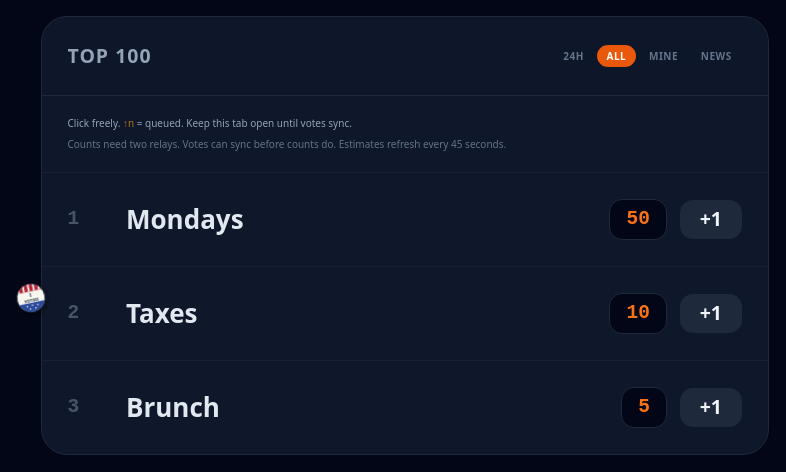
Test: Blameboard › re-ranks by 24h votes under the 24h tab and drops zero-hot topics
What coordinates should you click on to do the following:
click the button "24h"
I would click on:
 (574, 56)
Its box is [554,45,594,67].
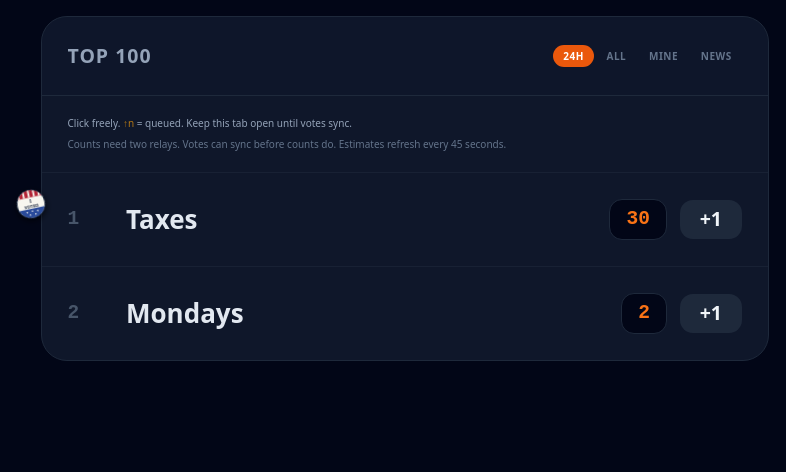
Expected: the text "Taxes" is shown, [126,200,198,238]
Expected: the text "Brunch" is gone
